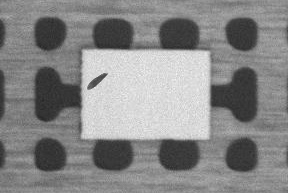DIE_INK: (125, 47, 164, 61)
